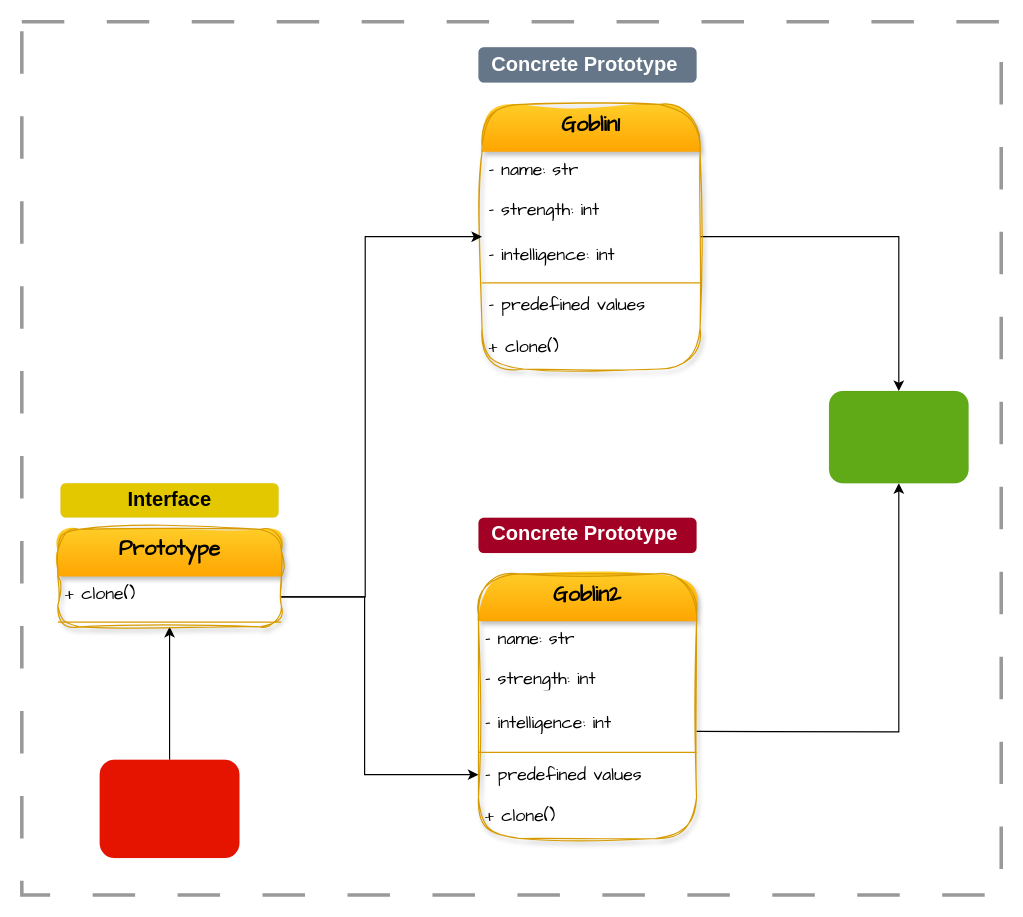
The diagram is 1023 pixels wide and 917 high, and some of its shapes have lost their labels. Here are the shapes that lost their labels. From the top down, the centre of each, then its label:
At (898,436): "Product".
At (169,808): "Client".
